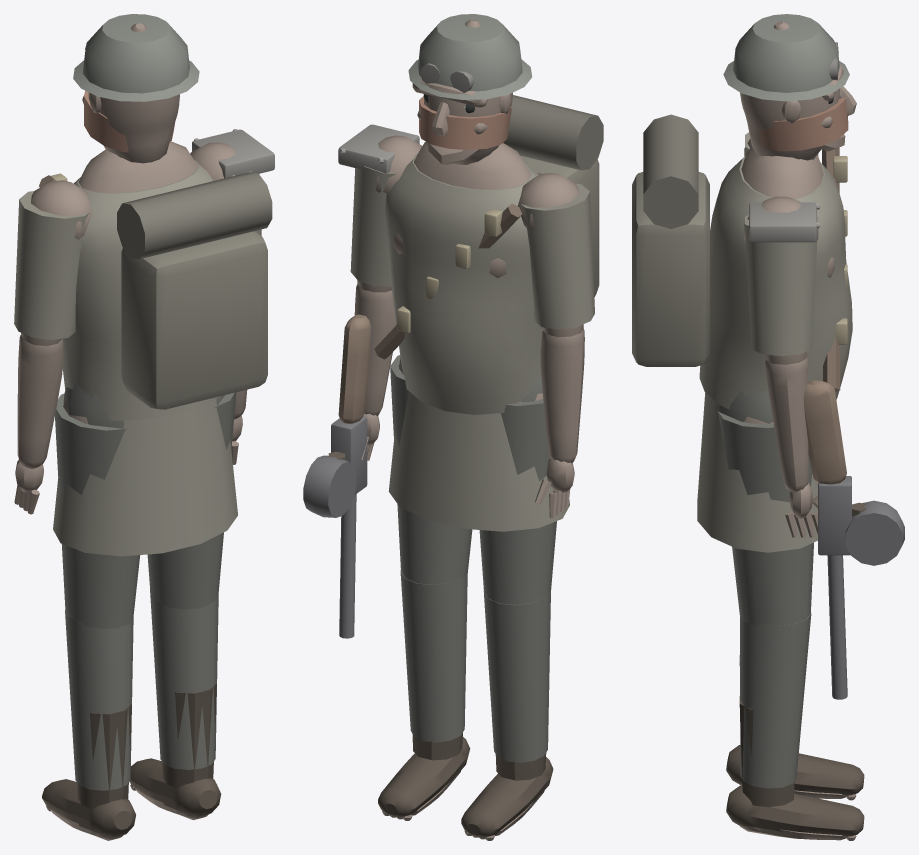
File: en_scav_gunner.gltf
3 views of the same model, side by side, from view 1: azimuth 30°, elevation 25°; view 2: azimuth 150°, elevation 25°; view 3: azimuth 270°, elevation 25° (orthographic). The views are drawn at different scales.
Parts seen in each view (by area): view 1: V3_Pack, Hips, Spine, ShinL, ShinR, LegL, ArmL, V1_Helmet, ForeL, LegR, Head, ArmR (+2 smaller); view 2: Spine, Hips, ShinL, ShinR, ForeR, ArmL, LegL, V3_Pack, V1_Helmet, ForeL, ArmR, LegR (+3 smaller); view 3: Spine, V3_Pack, ForeR, ShinR, ArmR, LegR, Hips, V1_Helmet, Head, ShinL, V2_Bandana.
Part boxes in pixels (<box>): V3_Pack: <box>117,172,272,409</box>; Hips: <box>53,384,237,556</box>; Spine: <box>31,141,235,420</box>; ShinL: <box>42,610,135,840</box>; ShinR: <box>129,590,221,820</box>; LegL: <box>55,393,140,629</box>; ArmL: <box>14,191,89,346</box>; V1_Helmet: <box>73,14,199,101</box>; ForeL: <box>14,335,63,514</box>; LegR: <box>147,392,236,609</box>; Head: <box>82,23,179,163</box>; ArmR: <box>192,129,274,236</box>; Spine: <box>374,135,578,414</box>; Hips: <box>388,358,569,531</box>; ShinL: <box>461,589,553,840</box>; ShinR: <box>378,570,470,820</box>; ForeR: <box>303,284,396,638</box>; ArmL: <box>518,183,594,337</box>; LegL: <box>479,393,556,605</box>; V3_Pack: <box>503,95,603,297</box>; V1_Helmet: <box>408,14,532,99</box>; ForeL: <box>535,329,584,518</box>; ArmR: <box>338,124,419,292</box>; LegR: <box>390,355,472,584</box>; Spine: <box>699,138,852,409</box>; V3_Pack: <box>632,114,709,366</box>; ForeR: <box>765,354,904,699</box>; ShinR: <box>726,613,864,840</box>; ArmR: <box>745,202,820,364</box>; LegR: <box>717,411,813,626</box>; Hips: <box>697,390,817,552</box>; V1_Helmet: <box>723,14,849,101</box>; Head: <box>740,21,856,160</box>; ShinL: <box>726,655,864,800</box>; V2_Bandana: <box>759,97,848,151</box>.
Bounding box in the file's own units: 0.5672 × 1.8 × 0.5604.
